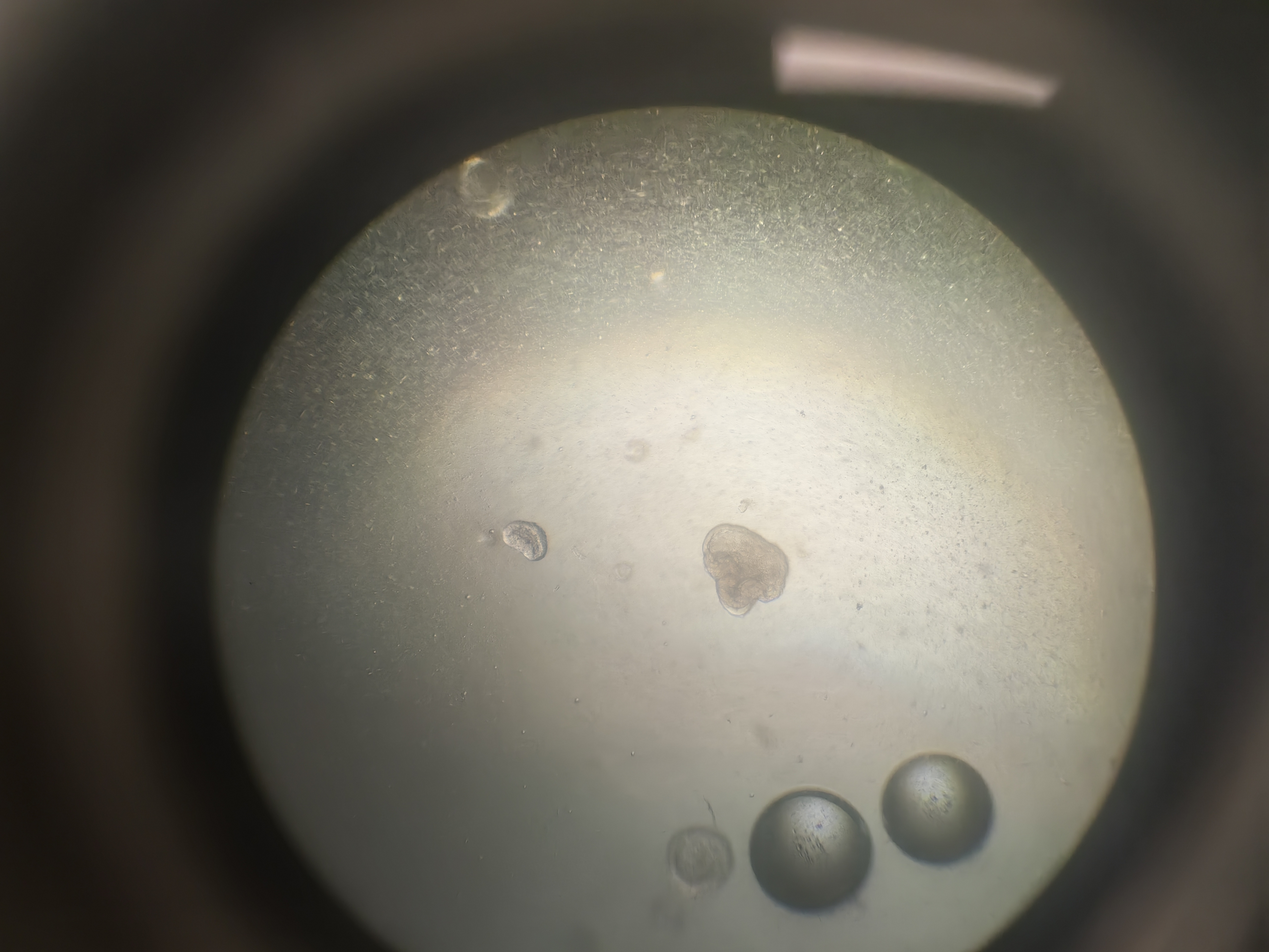organoid: (868, 493, 955, 589), (765, 559, 829, 629)
